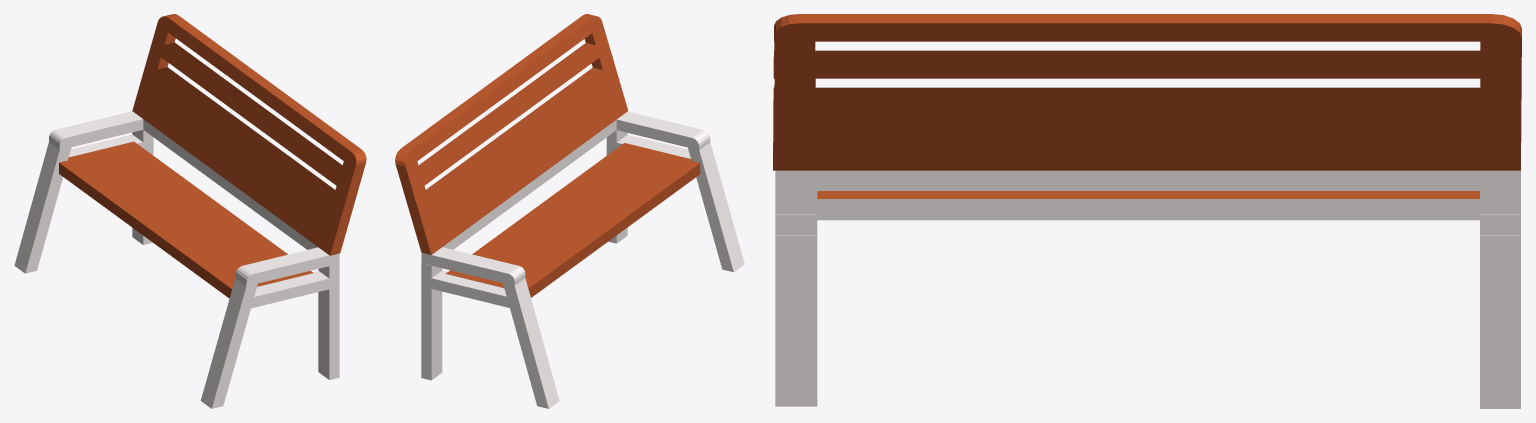
Rendered from bank.fbx.
The picture shows the model from 3 angles, left to right: view 1: azimuth 30°, elevation 25°; view 2: azimuth 150°, elevation 25°; view 3: azimuth 270°, elevation 25°; orthographic projection. The views are drawn at different scales.
Visible parts, largest first — view 1: Cube; view 2: Cube; view 3: Cube.
Part boxes in pixels (bbox=[...]): Cube: bbox=[14, 14, 366, 408]; Cube: bbox=[395, 14, 744, 408]; Cube: bbox=[773, 14, 1521, 408].
Bounding box in the file's own units: 2663 × 3539 × 5831.
